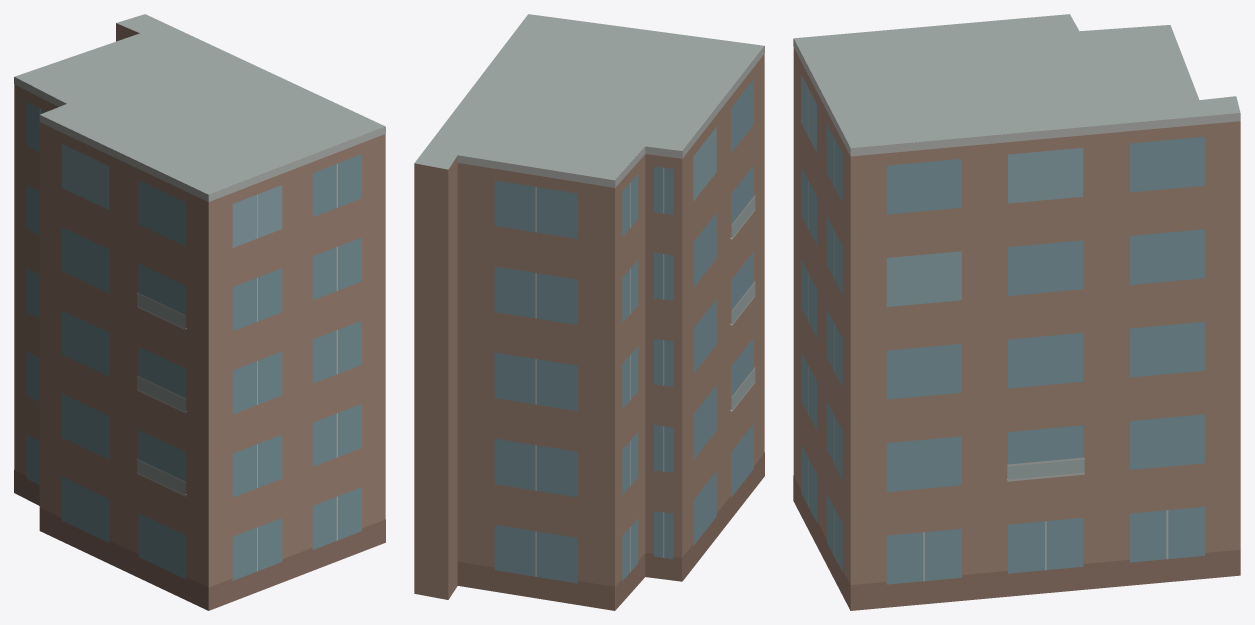
File: survey-upis-32717840.glb
3 renders of one model, left to right at view 1: azimuth 30°, elevation 25°; view 2: azimuth 150°, elevation 25°; view 3: azimuth 270°, elevation 25°, orthographic. The views are drawn at different scales.
Visible parts, largest first — view 1: survey-upis-32717840.tmp; view 2: survey-upis-32717840.tmp; view 3: survey-upis-32717840.tmp.
Part boxes in pixels (x1,y1,x2,y2): survey-upis-32717840.tmp: (14, 14, 385, 610); survey-upis-32717840.tmp: (414, 14, 764, 610); survey-upis-32717840.tmp: (793, 14, 1240, 610).
Size of the model in its own units: 8.6 by 13.8 by 12.09.
